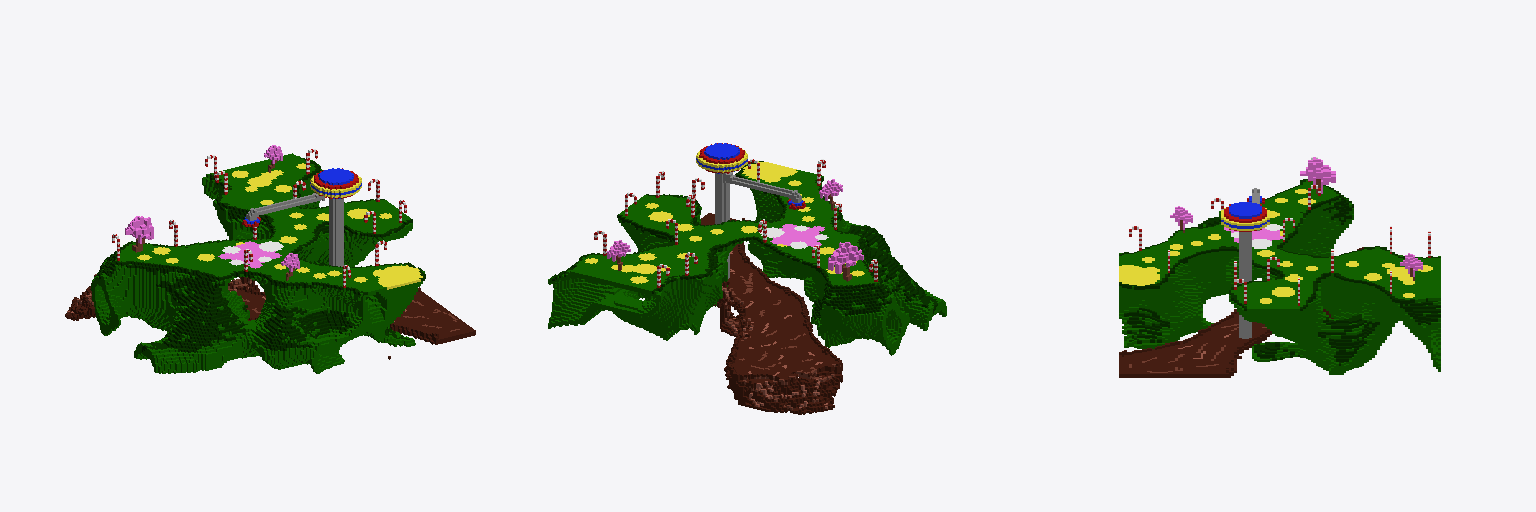
The picture shows the model from 3 angles: view 1: azimuth 30°, elevation 25°; view 2: azimuth 150°, elevation 25°; view 3: azimuth 270°, elevation 25°; orthographic projection.
Size of the model in its own units: 126 by 67 by 126.
Materials: 1 (1 with a texture image).